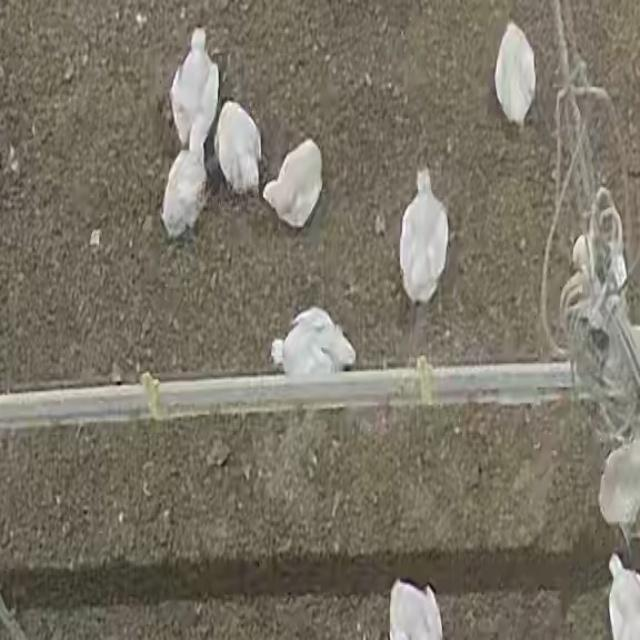chicken: (396, 167, 452, 304), (159, 124, 215, 239), (272, 308, 356, 384), (169, 28, 219, 145), (262, 138, 323, 229), (493, 20, 537, 130), (215, 100, 264, 195), (600, 432, 640, 536), (388, 574, 441, 640), (605, 555, 640, 640)
